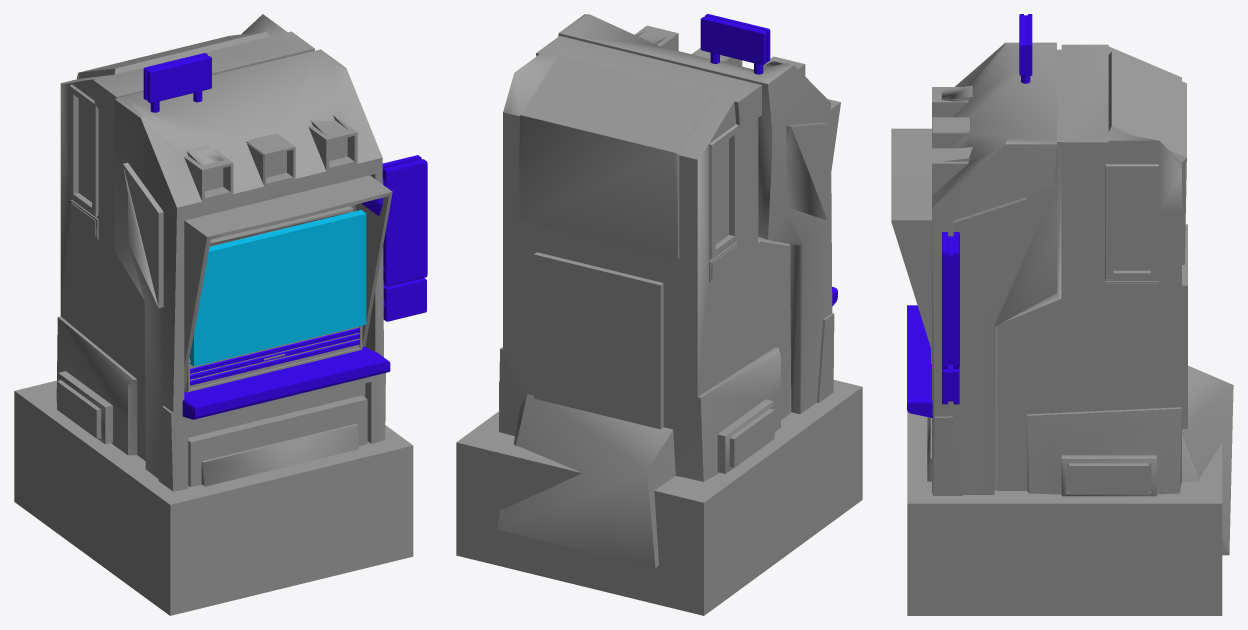
File: contactBeacon.fbx
The picture shows the model from 3 angles, left to right: view 1: azimuth 30°, elevation 25°; view 2: azimuth 150°, elevation 25°; view 3: azimuth 270°, elevation 25°; orthographic projection.
Parts seen in each view (by area): view 1: Cube, Cube.002, Cube.001, Cube.011, Cube.016, Cube.015, Cube.017, Cube.014, Cube.012, Cube.013; view 2: Cube, Cube.002, Cube.015; view 3: Cube, Cube.002, Cube.011, Cube.016, Cube.015, Cube.017.
Part boxes in pixels (box(x1,y1,x2,y2)): Cube: box(56, 14, 392, 491); Cube.002: box(14, 380, 413, 615); Cube.001: box(189, 210, 366, 366); Cube.011: box(182, 346, 390, 419); Cube.016: box(382, 155, 427, 286); Cube.015: box(143, 53, 211, 103); Cube.017: box(383, 278, 426, 321); Cube.014: box(190, 339, 359, 385); Cube.012: box(190, 327, 359, 373); Cube.013: box(190, 333, 359, 379); Cube: box(497, 14, 840, 567); Cube.002: box(456, 380, 862, 615); Cube.015: box(700, 14, 770, 65); Cube: box(891, 42, 1233, 555); Cube.002: box(907, 411, 1222, 615); Cube.011: box(907, 305, 932, 417); Cube.016: box(942, 232, 959, 368); Cube.015: box(1019, 14, 1032, 75); Cube.017: box(942, 364, 959, 404).
Bounding box in the file's own units: 248 × 427 × 265.
